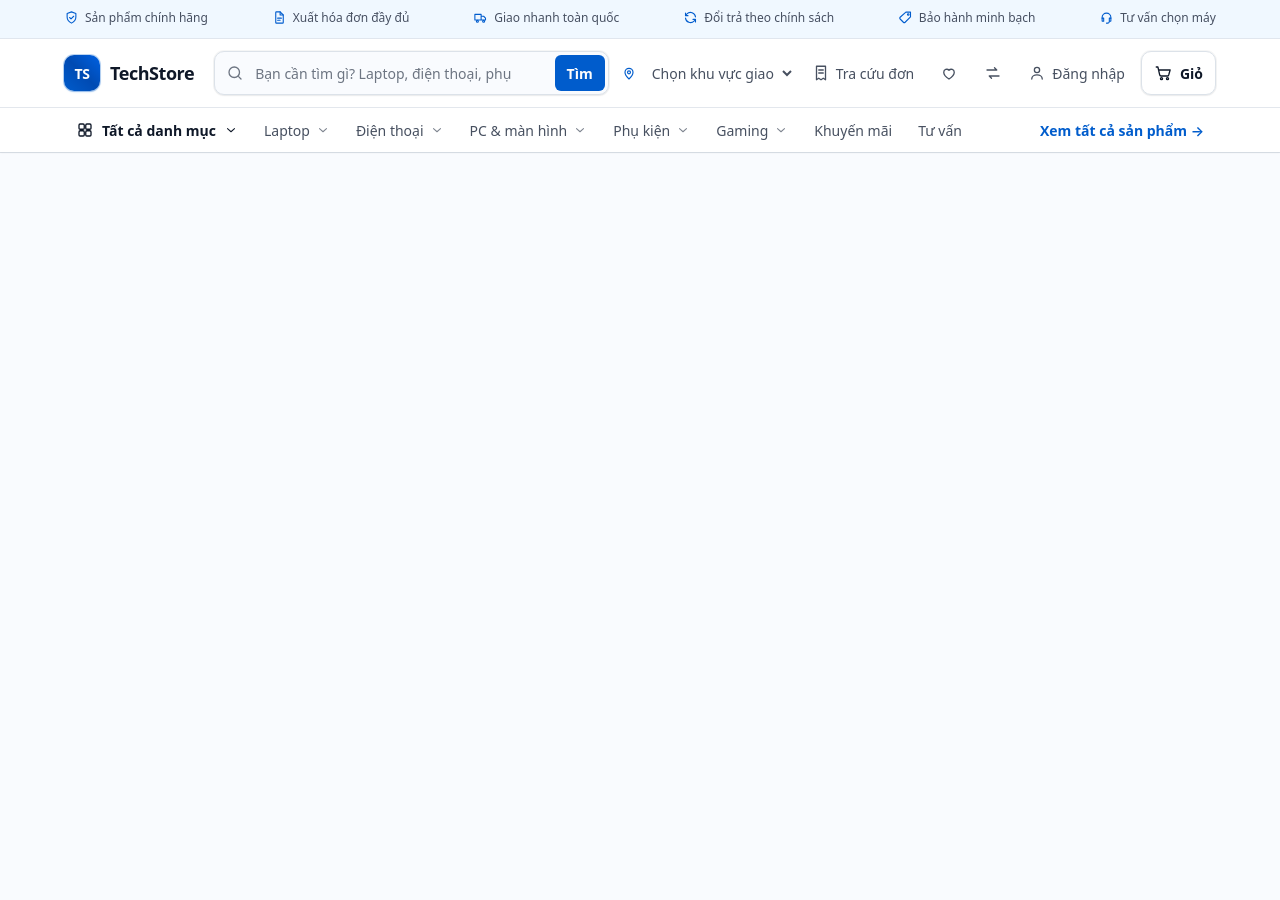
Scenario: Header › closes the open panel on Escape
Click the button "Laptop" at (297, 130), box [252,108,342,152]
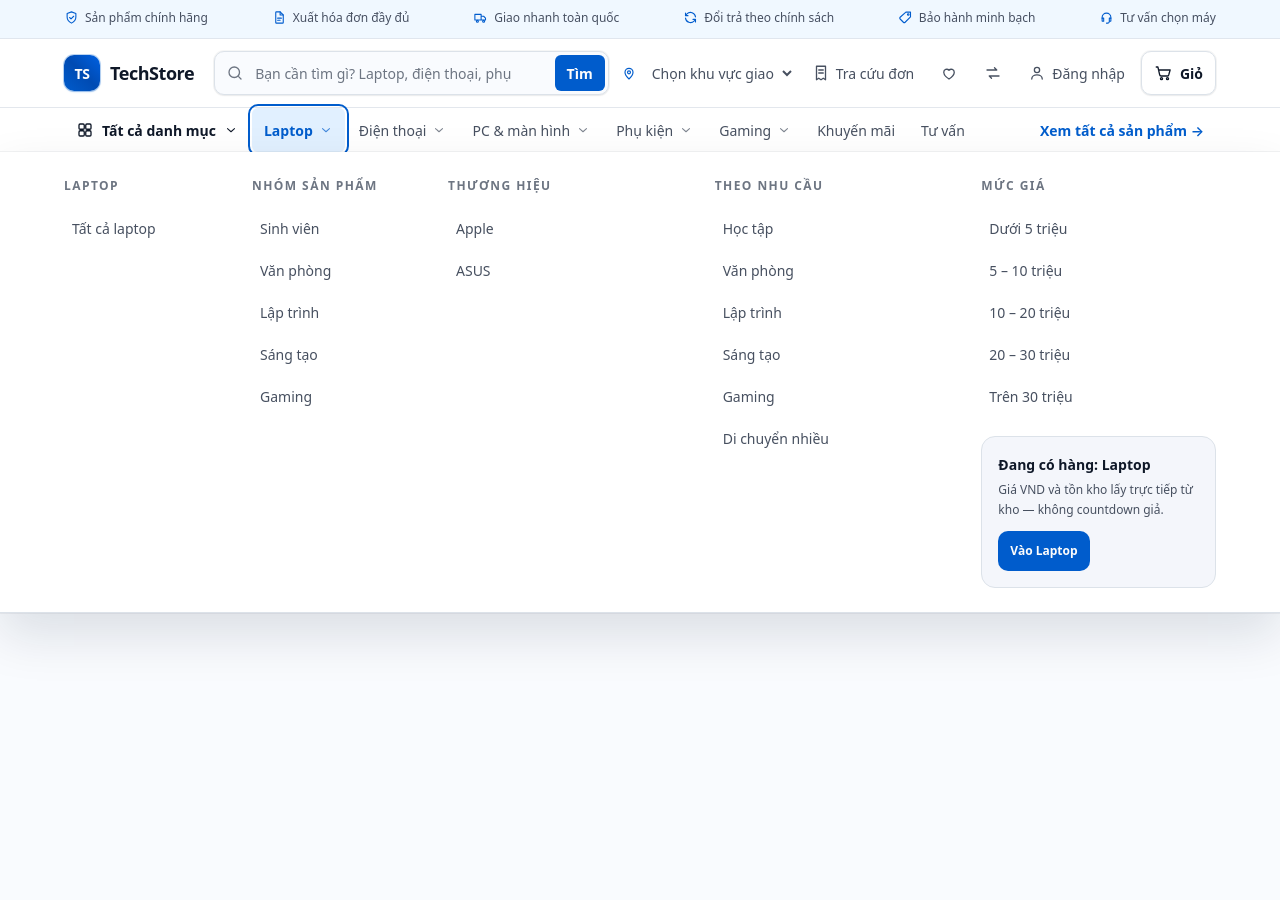
Expected: the button "Laptop" is expanded, [252,108,345,152]
Press Escape
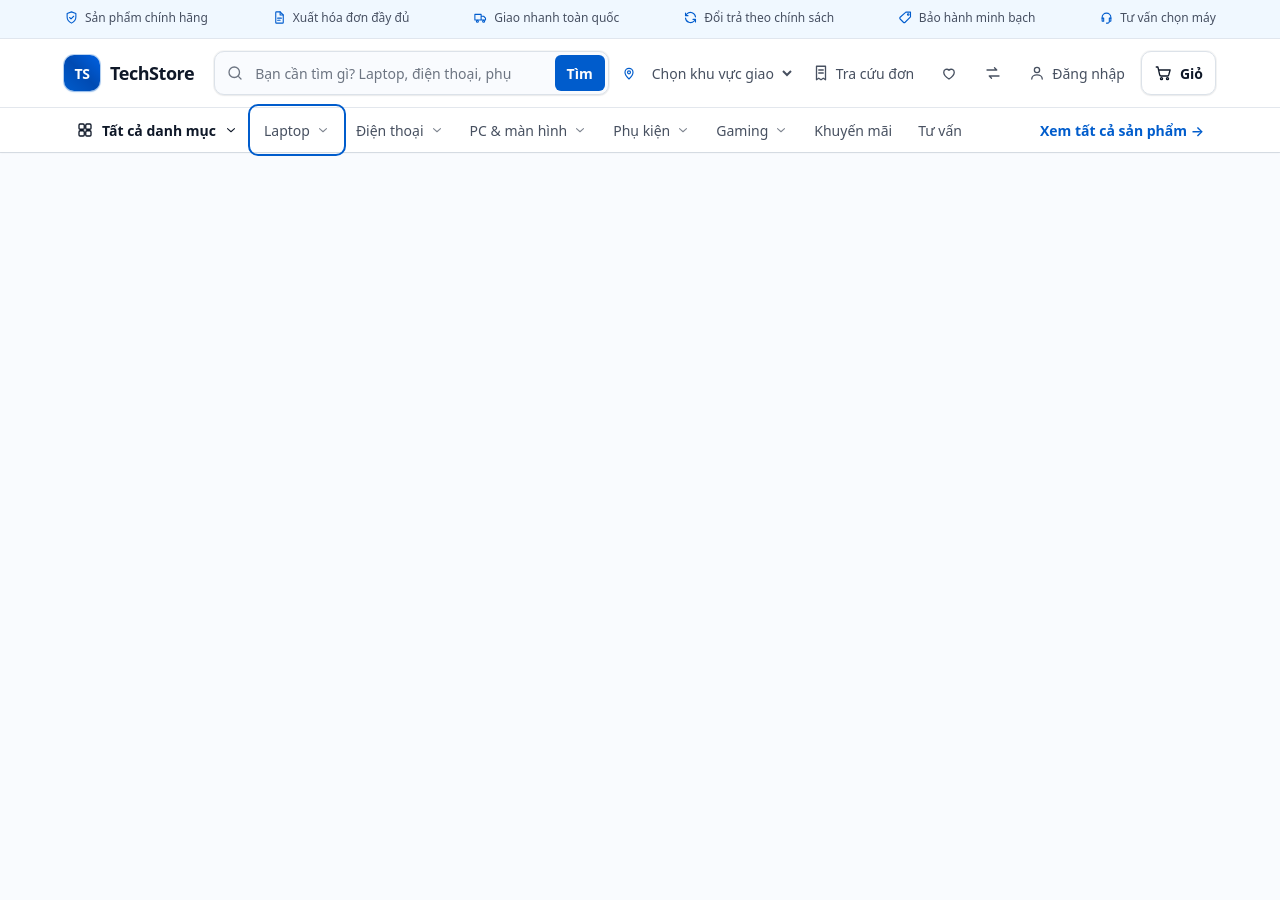
Expected: the button "Laptop" is collapsed, [252,108,342,152]
